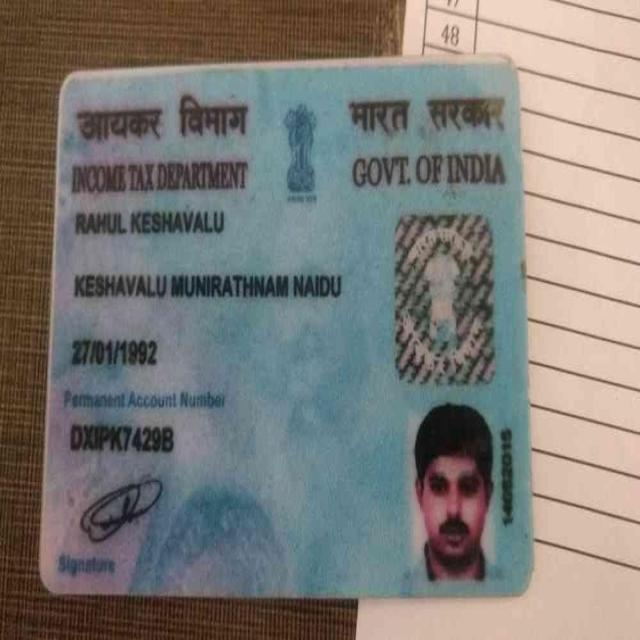pan_card: (56, 71, 530, 589)
